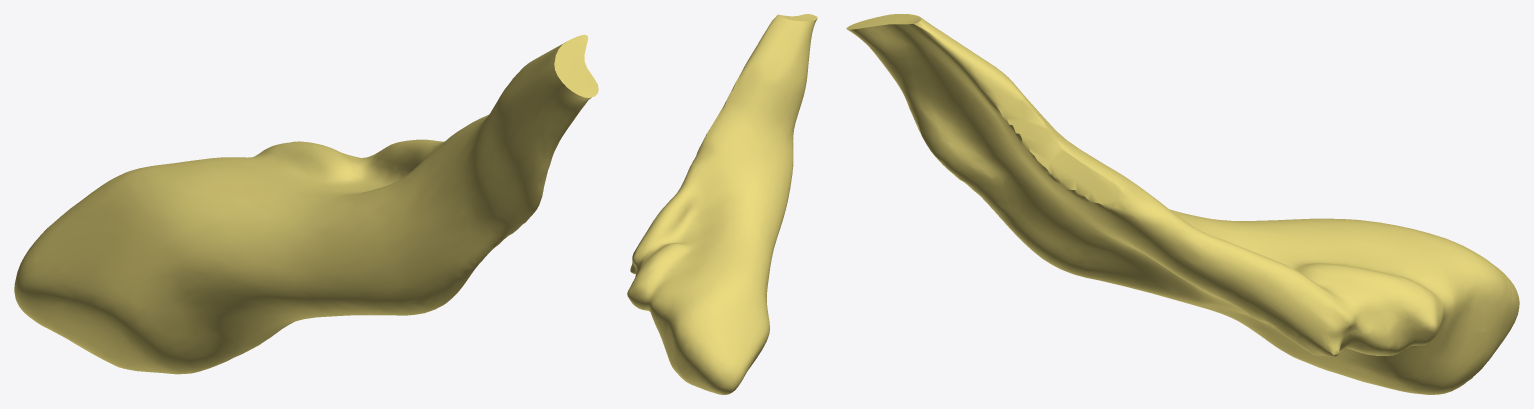
The model's file is superior-cerebellar-peduncle-r.glb.
The picture shows the model from 3 angles, left to right: view 1: azimuth 30°, elevation 25°; view 2: azimuth 150°, elevation 25°; view 3: azimuth 270°, elevation 25°; orthographic projection. The views are drawn at different scales.
Visible parts, largest first — view 1: Superior cerebellar peduncle.r; view 2: Superior cerebellar peduncle.r; view 3: Superior cerebellar peduncle.r.
Part boxes in pixels (box(x1,y1,x2,y2)): Superior cerebellar peduncle.r: box(14, 34, 598, 374); Superior cerebellar peduncle.r: box(627, 14, 817, 394); Superior cerebellar peduncle.r: box(846, 14, 1519, 394).
Size of the model in its own units: 0.0137 by 0.0213 by 0.03.
